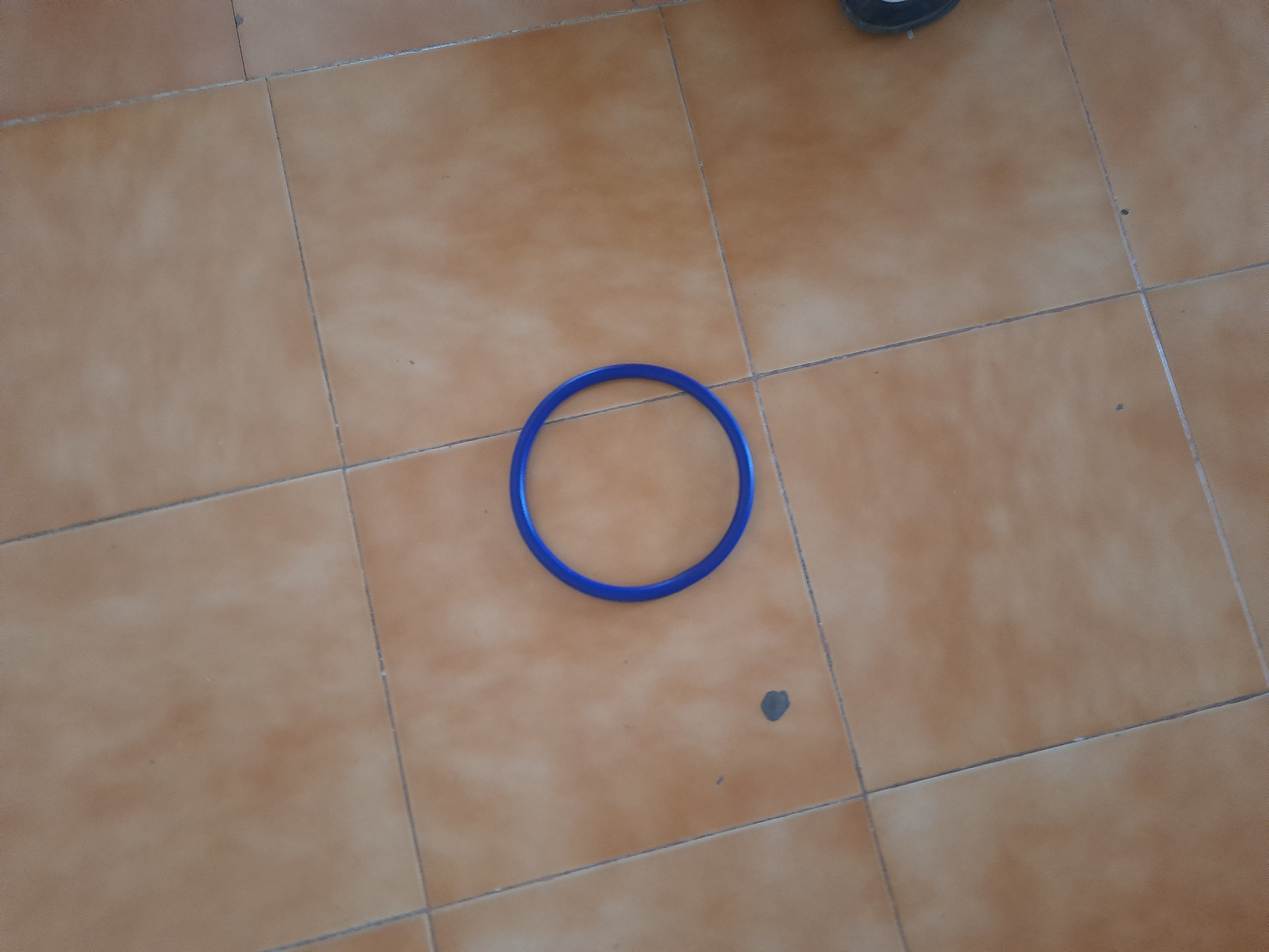Blue ring: (508, 362, 753, 604)
